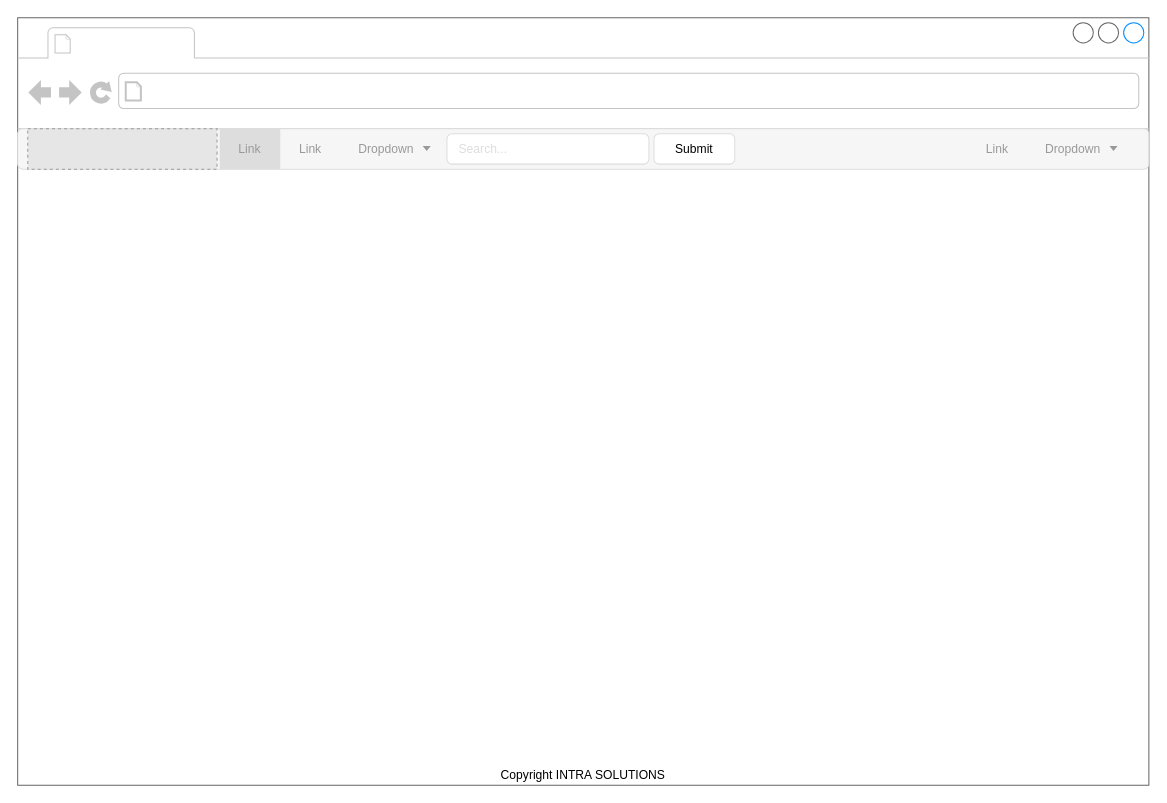
Some shapes in this 1167 by 803 pixel diagram are drawn without their labels. Grey dashed boxes stand in for pictures. Here are the shapes that lost their labels. From the top down, the box of each, then its label:
(77, 29, 189, 56): IsLoggedIn.js
(148, 77, 563, 105): https://www.ourdomain.something/isloggedin
